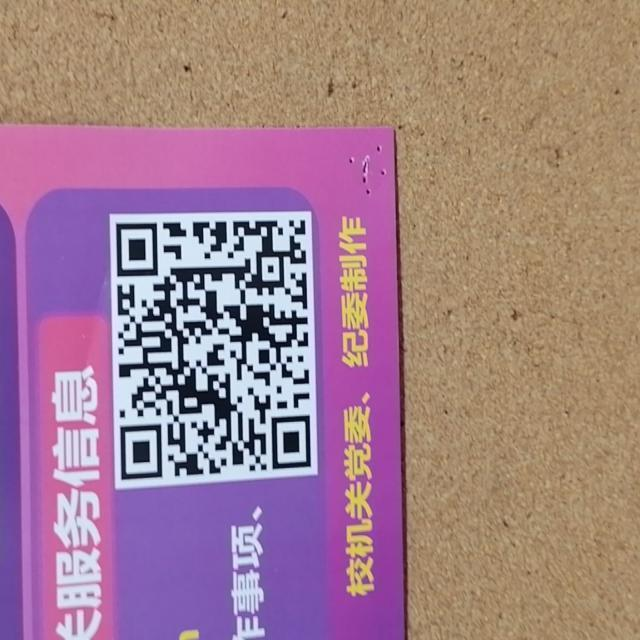qr_code: (114, 220, 312, 480)
